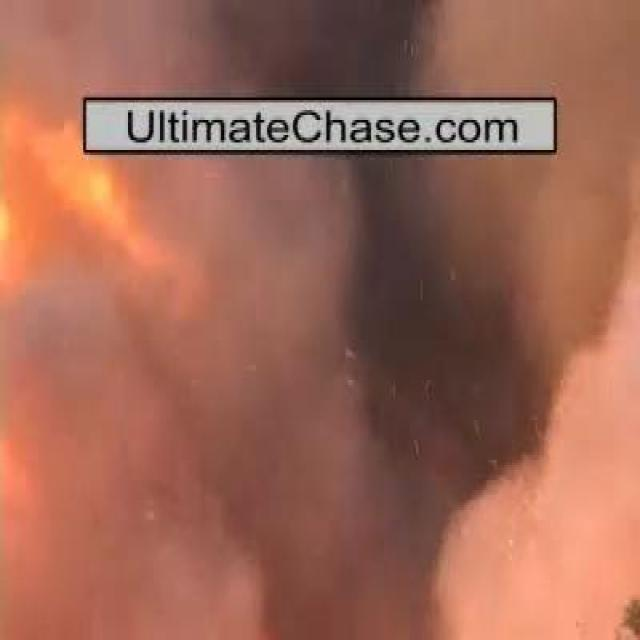Smoke: (105, 165, 564, 527)
